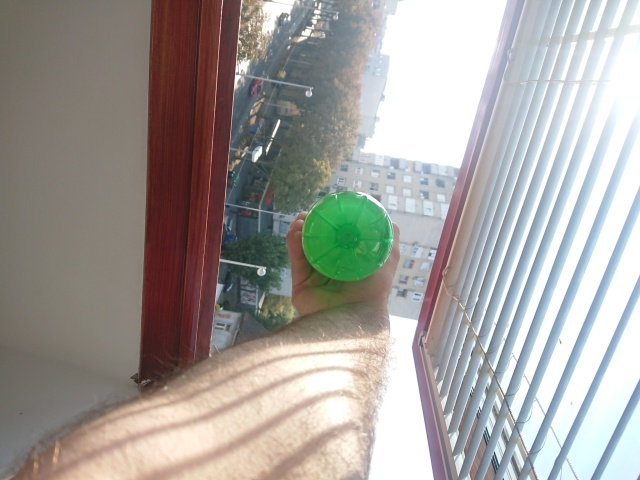Vindi Iso Sport Lemon-Grapefruit 500mL: (298, 188, 397, 285)
